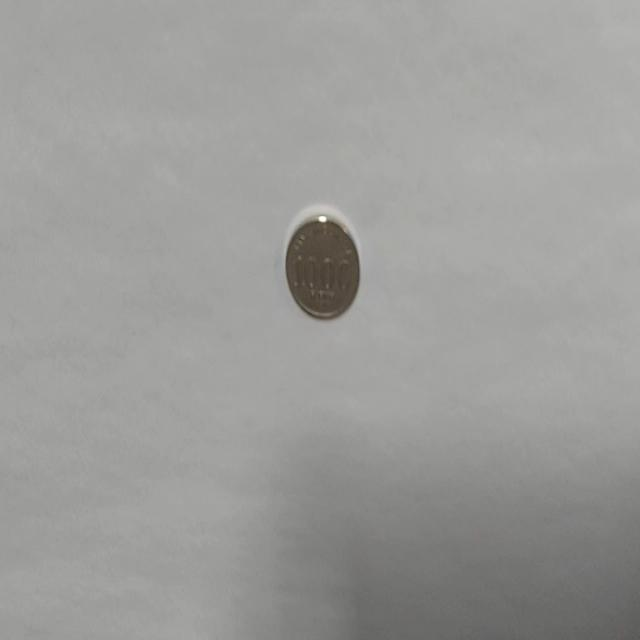seribu rupiah koin: (283, 204, 361, 321)
